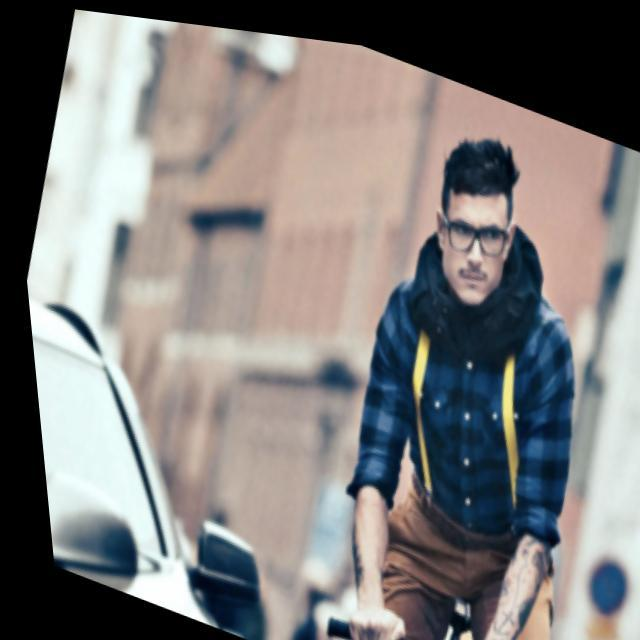Nonhelmet: (431, 135, 525, 308)
